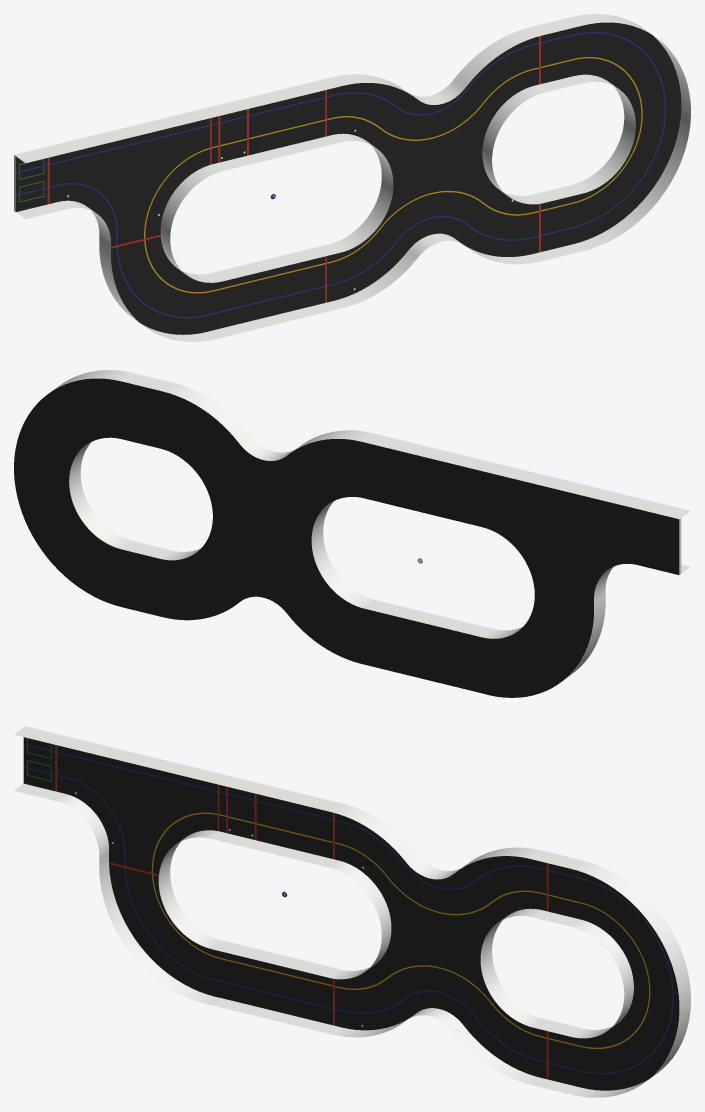
The model's file is Medium 4 Way.obj.
3 renders of one model, top to bottom at view 1: azimuth 30°, elevation 25°; view 2: azimuth 150°, elevation 25°; view 3: azimuth 330°, elevation 25°, orthographic.
Visible parts, largest first — view 1: Body6; view 2: Body6; view 3: Body6.
Part boxes in pixels (<box>): Body6: <box>14,14,690,341</box>; Body6: <box>14,370,690,697</box>; Body6: <box>14,726,690,1097</box>.
Bounding box in the file's own units: 10.11 × 3.28 × 0.3048.
